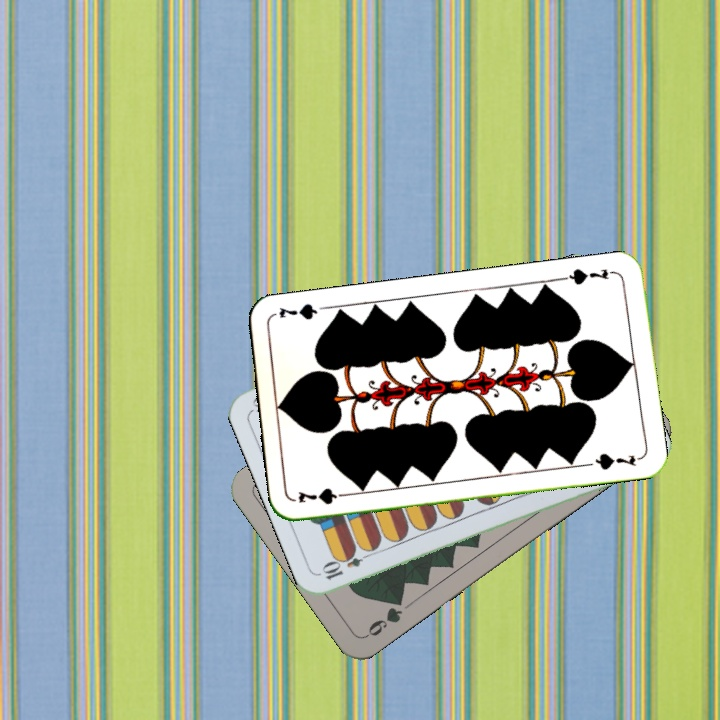E10: (318, 546, 375, 583)
G7: (294, 483, 353, 507), (559, 264, 618, 288)
G9: (361, 592, 406, 640)
